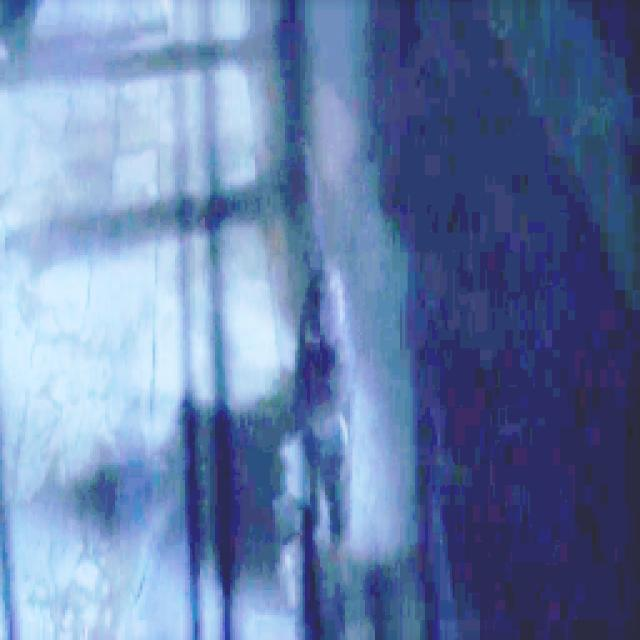cat: (257, 186, 388, 552)
